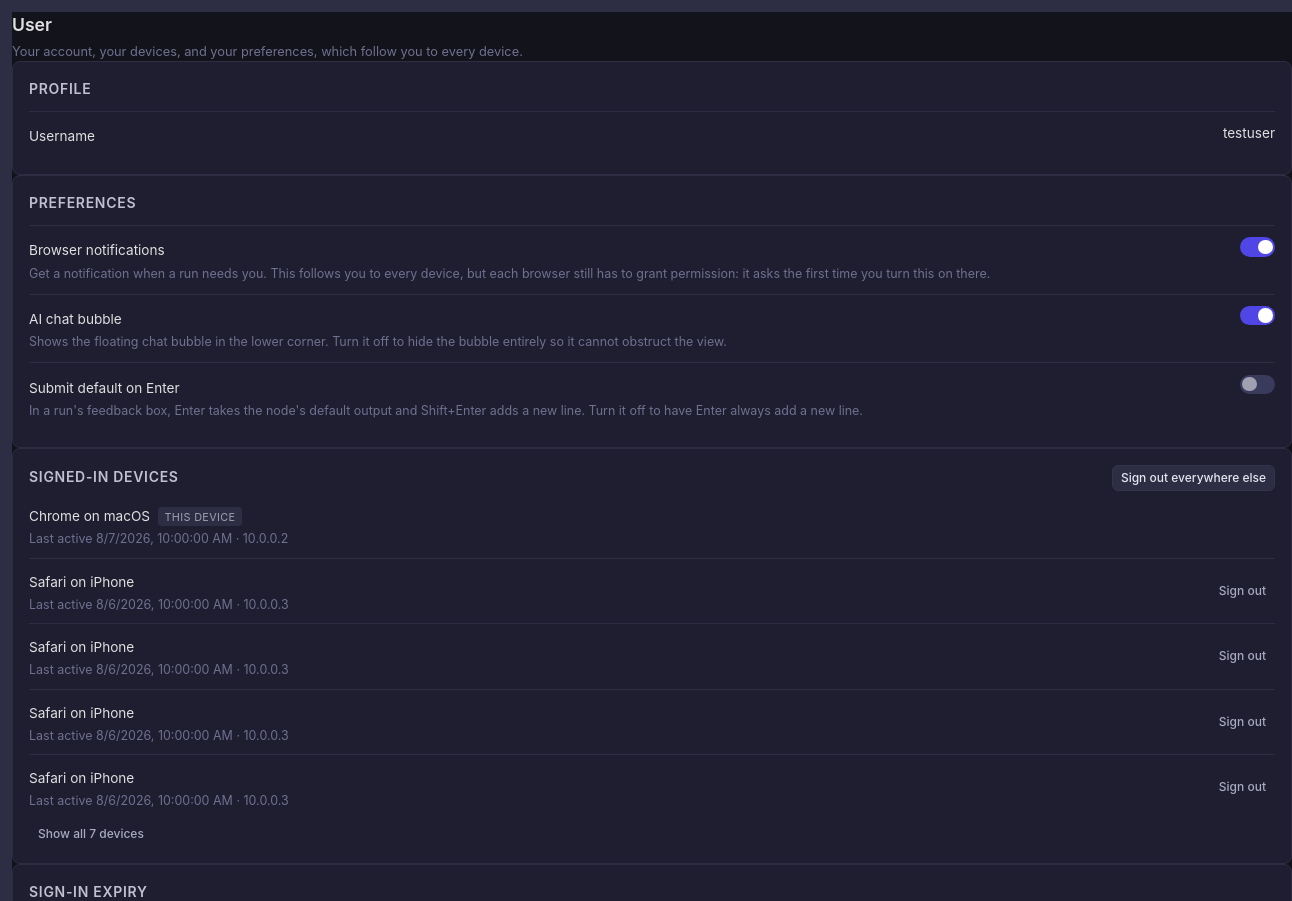
Test: User settings signed-in devices › shows this device and the four most recent others, with the rest a click away
Expected: the text "Chrome on macOS" is shown, [29,508,150,524]
Expected: the number of list items is 5, [29,507,288,546]; [29,558,1275,624]; [29,624,1275,689]; [29,689,1275,754]; [29,754,1275,820]
Click the button "Show all 7 devices" at (91, 834), box [29,821,153,847]
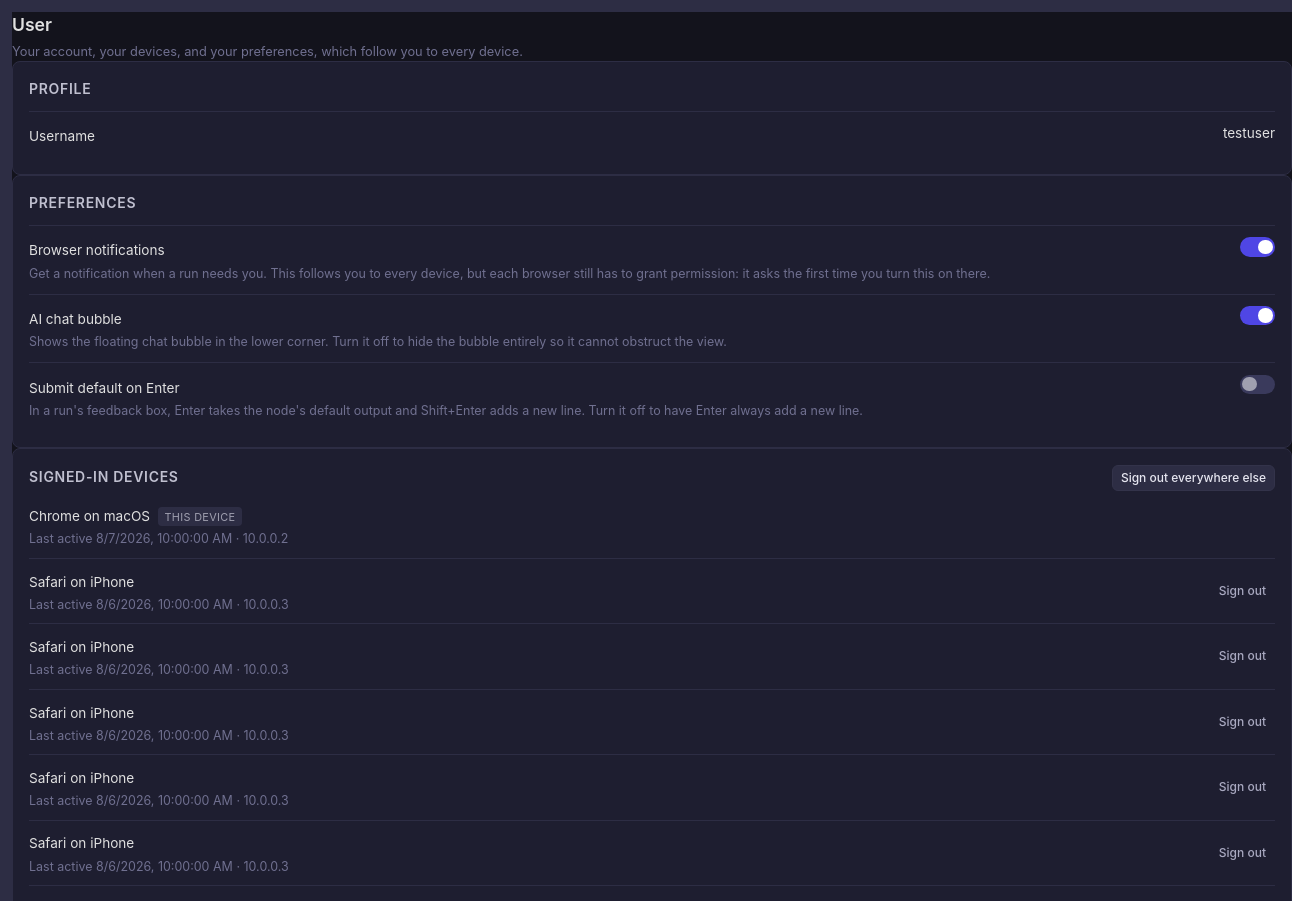
Result: the number of list items is 7
